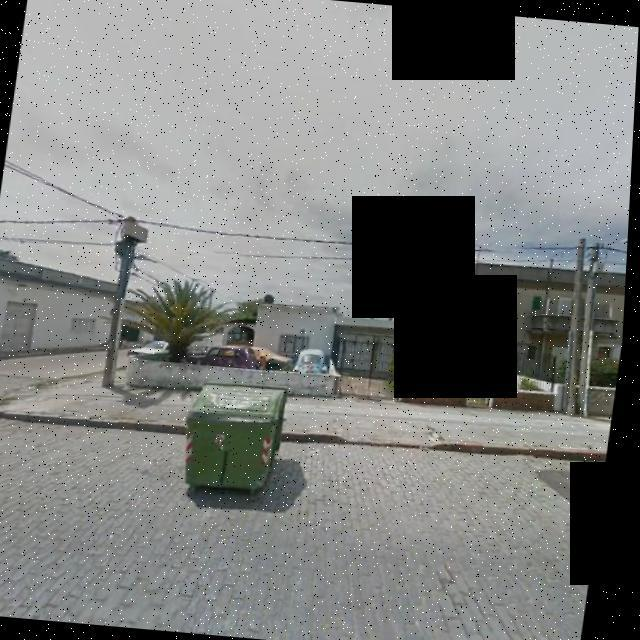bin: (165, 369, 305, 521)
